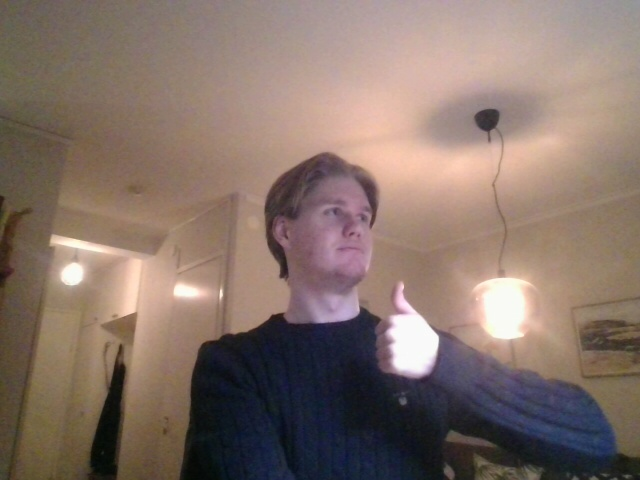ThumbsUp: (374, 281, 430, 382)
